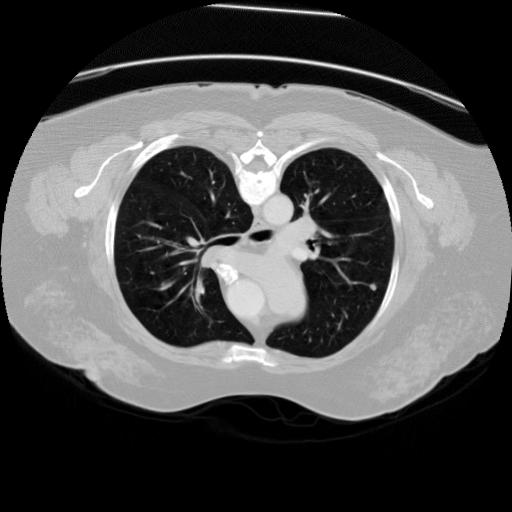nodule: (366, 282, 379, 295)
